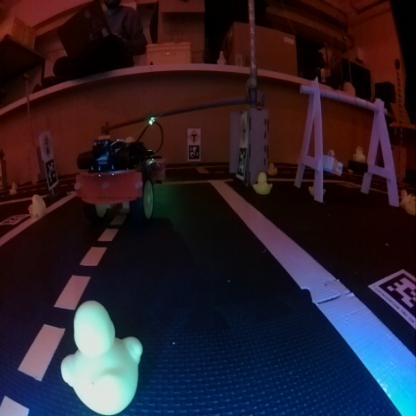Duckie: (60, 299, 141, 410), (28, 194, 46, 217), (253, 172, 271, 192)
Duckiebot: (76, 126, 164, 218)
Intersection sign: (188, 129, 199, 144)
QR code: (375, 267, 415, 325), (187, 145, 198, 160)
